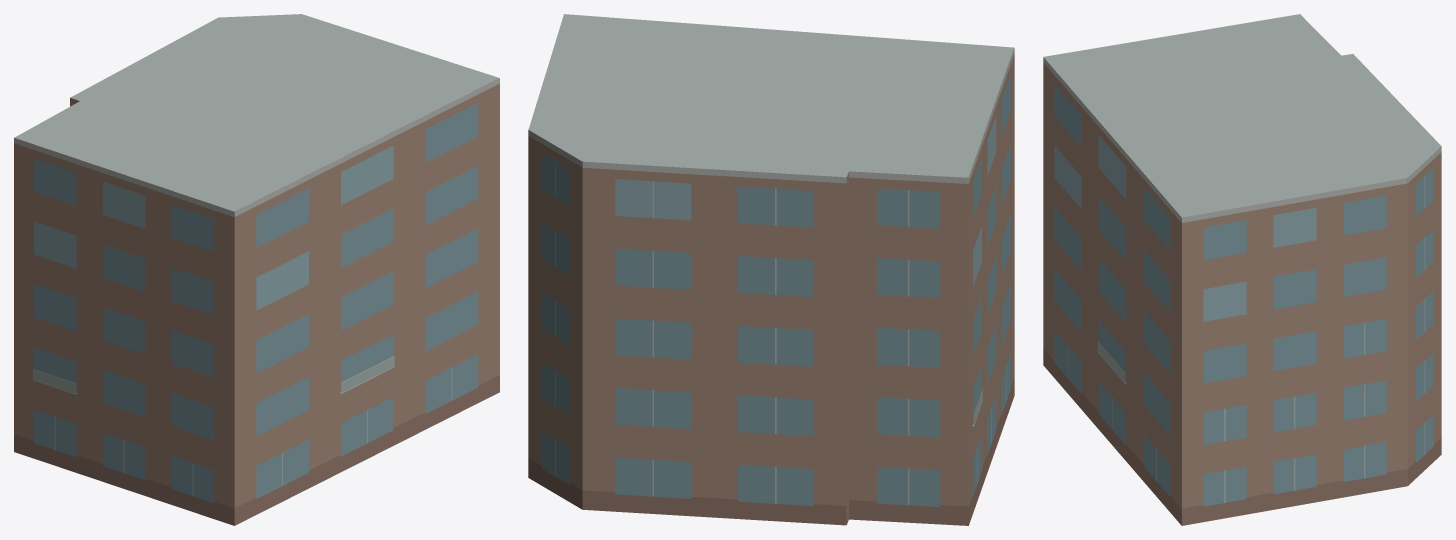
File: survey-upis-32487576.glb
3 views of the same model, side by side, from view 1: azimuth 30°, elevation 25°; view 2: azimuth 150°, elevation 25°; view 3: azimuth 270°, elevation 25° (orthographic). The views are drawn at different scales.
Visible parts, largest first — view 1: survey-upis-32487576.tmp; view 2: survey-upis-32487576.tmp; view 3: survey-upis-32487576.tmp.
Part boxes in pixels (x1,y1,x2,y2): survey-upis-32487576.tmp: (14,14,499,525); survey-upis-32487576.tmp: (528,14,1014,525); survey-upis-32487576.tmp: (1043,14,1441,525).
Size of the model in its own units: 19.71 by 13.9 by 16.29.
